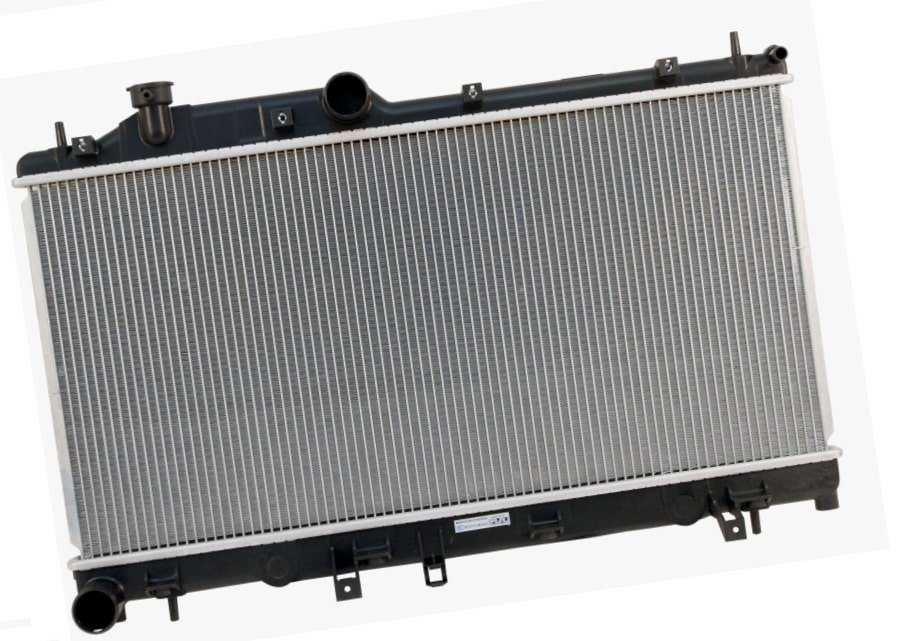c1: (50, 117, 103, 165)
c10: (263, 553, 292, 582)
c11: (329, 535, 397, 602)
c12: (415, 528, 458, 587)
c13: (528, 509, 567, 543)
c14: (708, 478, 773, 544)
c2: (128, 78, 184, 151)
c3: (269, 107, 296, 131)
c4: (321, 68, 376, 120)
c5: (461, 80, 487, 107)
c6: (654, 54, 683, 81)
c7: (728, 28, 790, 72)
c8: (68, 580, 130, 638)
c9: (143, 565, 184, 623)
